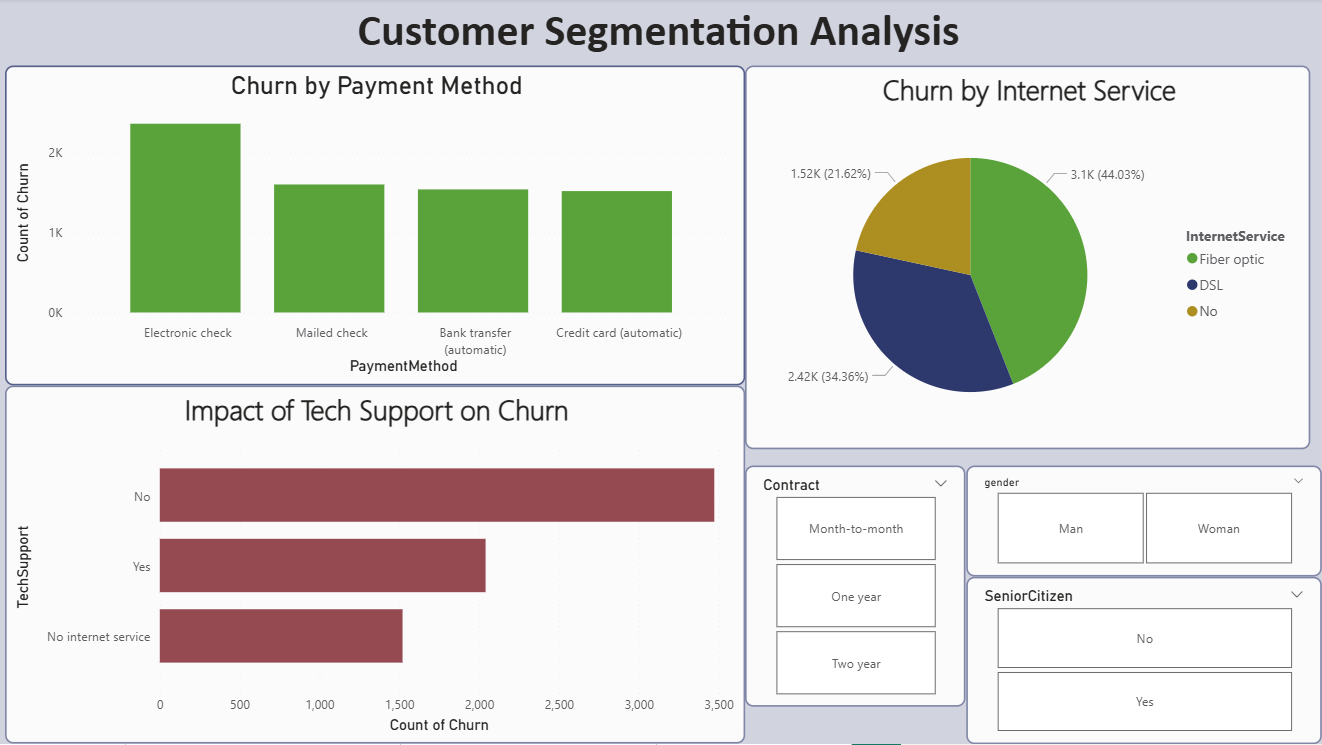

What the dashboard file says about the page in this screenshot:
{"tool":"powerbi","page":{"name":"Customer Segmentation Analysis","canvas":[1280,720],"ordinal":1},"visuals":[{"type":"pieChart","title":"Churn by Internet Service","fields":{"Category":["cleaned_churn_data.InternetService"],"Y":["CountNonNull(cleaned_churn_data.Churn)"]},"box":[724.3,65.7,545.7,370],"z":0},{"type":"textbox","box":[307.1,0,665.7,82.9],"z":1000},{"type":"clusteredColumnChart","title":"Churn by Payment Method","fields":{"Category":["cleaned_churn_data.PaymentMethod"],"Y":["CountNonNull(cleaned_churn_data.Churn)"]},"box":[10,65.7,714.3,308.6],"z":2000},{"type":"clusteredBarChart","title":"Impact of Tech Support on Churn","fields":{"Y":["CountNonNull(cleaned_churn_data.Churn)"],"Category":["cleaned_churn_data.TechSupport"]},"box":[10,374.3,714.3,345.7],"z":3000},{"type":"slicer","title":"Impact of Tech Support on Churn","fields":{"Values":["cleaned_churn_data.gender"]},"box":[937.1,451.4,342.9,107.1],"z":4000},{"type":"slicer","title":"Impact of Tech Support on Churn","fields":{"Values":["cleaned_churn_data.Contract"]},"box":[724.3,451.4,212.9,232.9],"z":5000},{"type":"slicer","title":"Impact of Tech Support on Churn","fields":{"Values":["cleaned_churn_data.SeniorCitizen"]},"box":[937.1,558.6,342.9,161.4],"z":6000}]}

Visuals, with their boxes in screenshot pixels (x1, y1, x2, y2), scaled from the page's 1280x720 canvas onto the 1322x745 screenshot:
"Churn by Internet Service" pieChart: [x1=748, y1=68, x2=1312, y2=451]
textbox: [x1=317, y1=0, x2=1005, y2=86]
"Churn by Payment Method" clusteredColumnChart: [x1=10, y1=68, x2=748, y2=387]
"Impact of Tech Support on Churn" clusteredBarChart: [x1=10, y1=387, x2=748, y2=744]
"Impact of Tech Support on Churn" slicer: [x1=968, y1=467, x2=1321, y2=578]
"Impact of Tech Support on Churn" slicer: [x1=748, y1=467, x2=968, y2=708]
"Impact of Tech Support on Churn" slicer: [x1=968, y1=578, x2=1321, y2=744]
